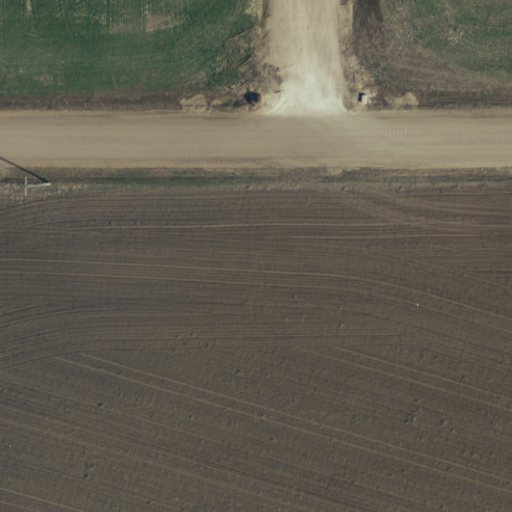DT: (18, 174, 55, 201)
